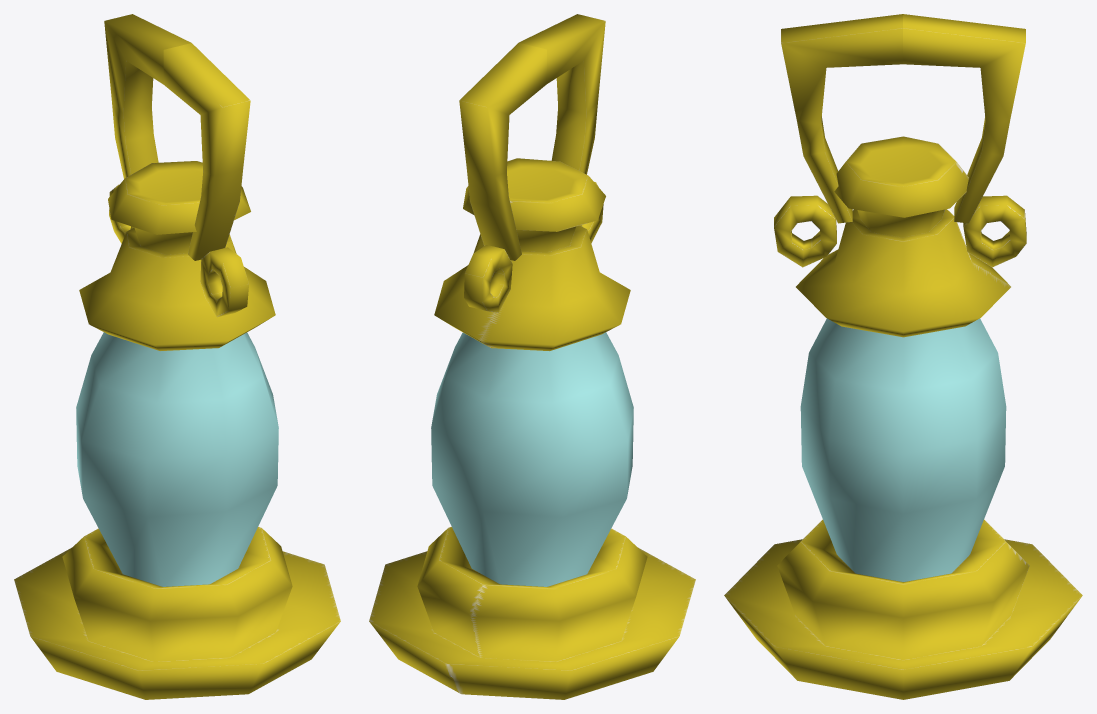
The model's file is Lantern.fbx.
3 views of the same model, side by side, from view 1: azimuth 30°, elevation 25°; view 2: azimuth 150°, elevation 25°; view 3: azimuth 270°, elevation 25° (orthographic). The views are drawn at different scales.
Visible parts, largest first — view 1: LanternBody, LanternHandle, HandleCircleB; view 2: LanternBody, LanternHandle, HandleCircleA; view 3: LanternBody, LanternHandle, HandleCircleB, HandleCircleA.
Part boxes in pixels (x1,y1,x2,y2): LanternBody: [14, 161, 340, 699]; LanternHandle: [104, 14, 250, 260]; HandleCircleB: [200, 247, 248, 317]; LanternBody: [369, 158, 695, 699]; LanternHandle: [459, 14, 605, 260]; HandleCircleA: [464, 245, 512, 312]; LanternBody: [724, 136, 1082, 699]; LanternHandle: [781, 14, 1025, 223]; HandleCircleB: [774, 195, 836, 267]; HandleCircleA: [963, 195, 1026, 267].
Size of the model in its own units: 10.39 by 20.09 by 10.58.
